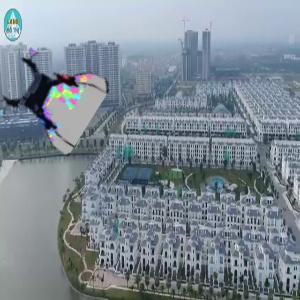drone: (1, 50, 98, 147)
